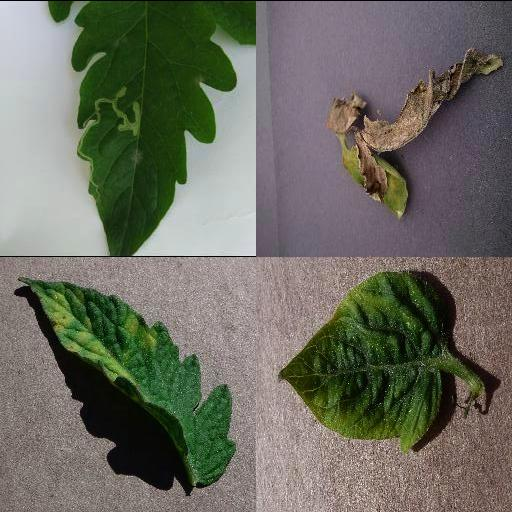Late Blight: (329, 45, 505, 217)
Leaf Miner: (70, 0, 236, 256)
Leaf Mold: (19, 274, 237, 488)
Yellow Leaf Curl Virus: (278, 271, 444, 453)
